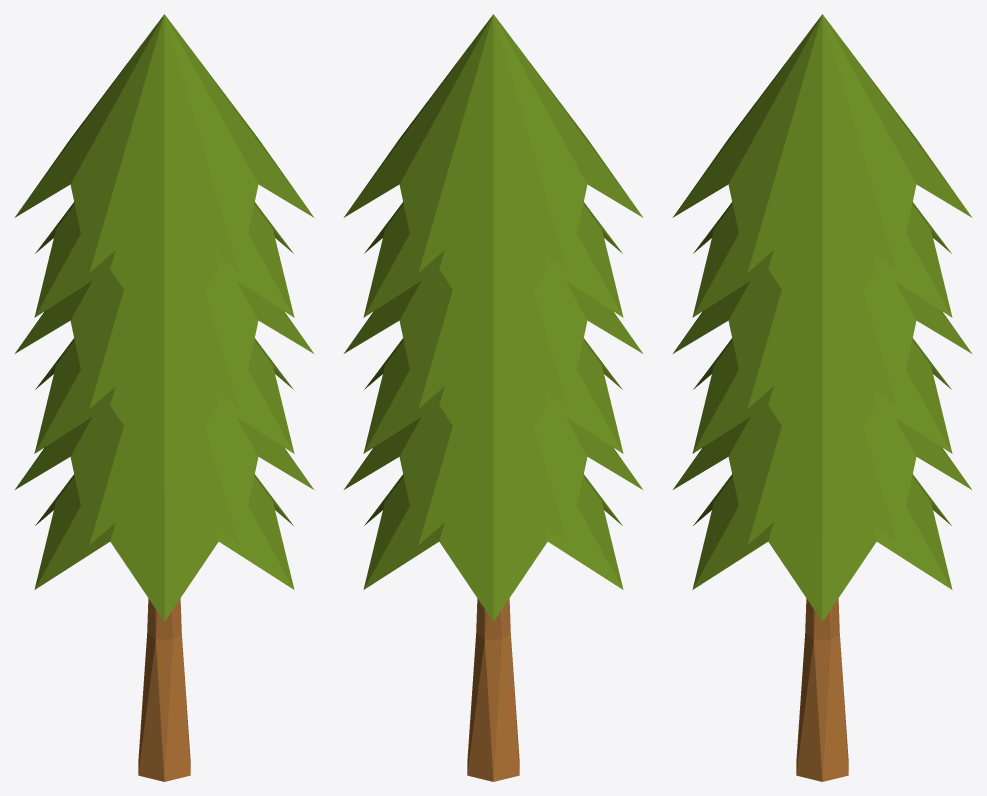
Rendered from wide_leaf_pine_large.fbx.
3 views of the same model, side by side, from view 1: azimuth 30°, elevation 25°; view 2: azimuth 150°, elevation 25°; view 3: azimuth 270°, elevation 25° (orthographic).
Visible parts, largest first — view 1: C-leaves.004, C-leaves.005, C-leaves.002, C-leaves.001, C-leaves.003, C-leaves, G-Object.001; view 2: C-leaves.004, C-leaves.005, C-leaves.002, C-leaves.001, C-leaves.003, C-leaves, G-Object.001; view 3: C-leaves.004, C-leaves.005, C-leaves.002, C-leaves.001, C-leaves.003, C-leaves, G-Object.001.
Boxes of the visible parts, x1,y1,x2,y2 form: C-leaves.004: (14, 14, 314, 272); C-leaves.005: (15, 269, 313, 408); C-leaves.002: (15, 406, 313, 544); C-leaves.001: (34, 202, 294, 349); C-leaves.003: (34, 474, 294, 621); C-leaves: (34, 338, 294, 485); G-Object.001: (138, 598, 190, 781); C-leaves.004: (343, 14, 643, 272); C-leaves.005: (344, 269, 642, 408); C-leaves.002: (344, 406, 642, 544); C-leaves.001: (363, 202, 623, 349); C-leaves.003: (363, 474, 623, 621); C-leaves: (363, 338, 623, 485); G-Object.001: (467, 598, 519, 781); C-leaves.004: (672, 14, 972, 272); C-leaves.005: (673, 269, 971, 408); C-leaves.002: (673, 406, 971, 544); C-leaves.001: (692, 202, 952, 349); C-leaves.003: (692, 474, 952, 621); C-leaves: (692, 338, 952, 485); G-Object.001: (796, 598, 848, 781).
Size of the model in its own units: 400 by 1110 by 400.
